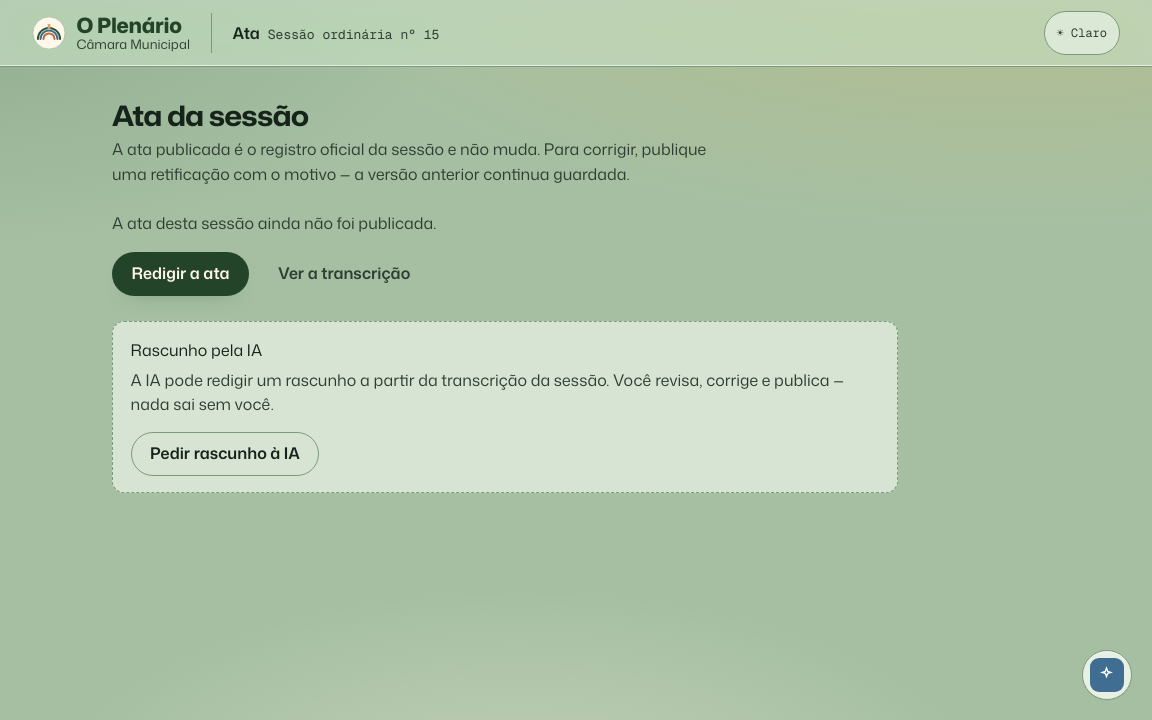
Test: PaginaAta — a Clara (ADR-0024, fatia 5) › a secretaria tem a Clara, recolhida, ao revisar a ata
Check: the button "Redigir a ata" is shown, box [112, 252, 249, 296]
Note: fatia 6: a tela lê a sessão, e a Clara sabe de qual ata se trata
Step 1. Click the button named "Pergunte à Clara" → coordinates (1107, 675), box [1082, 650, 1132, 700]
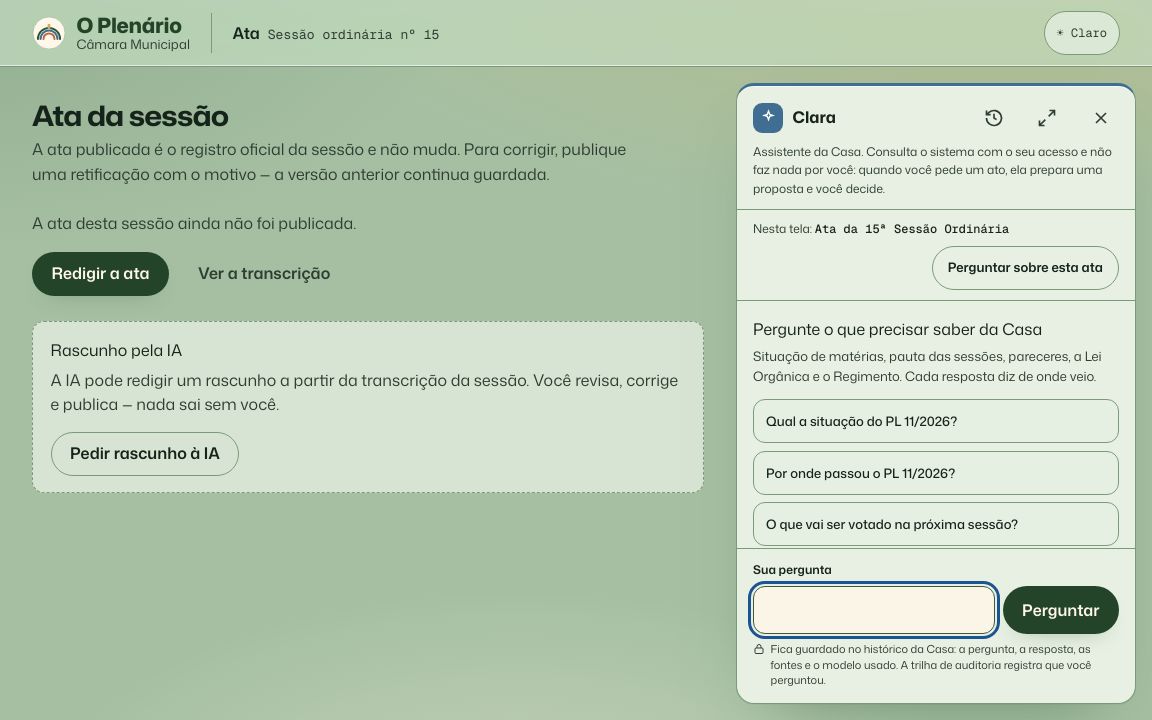
Check: the element with class "ast" shows "Nesta tela: Ata da 15ª Sessão Ordinária", box [736, 83, 1136, 704]
